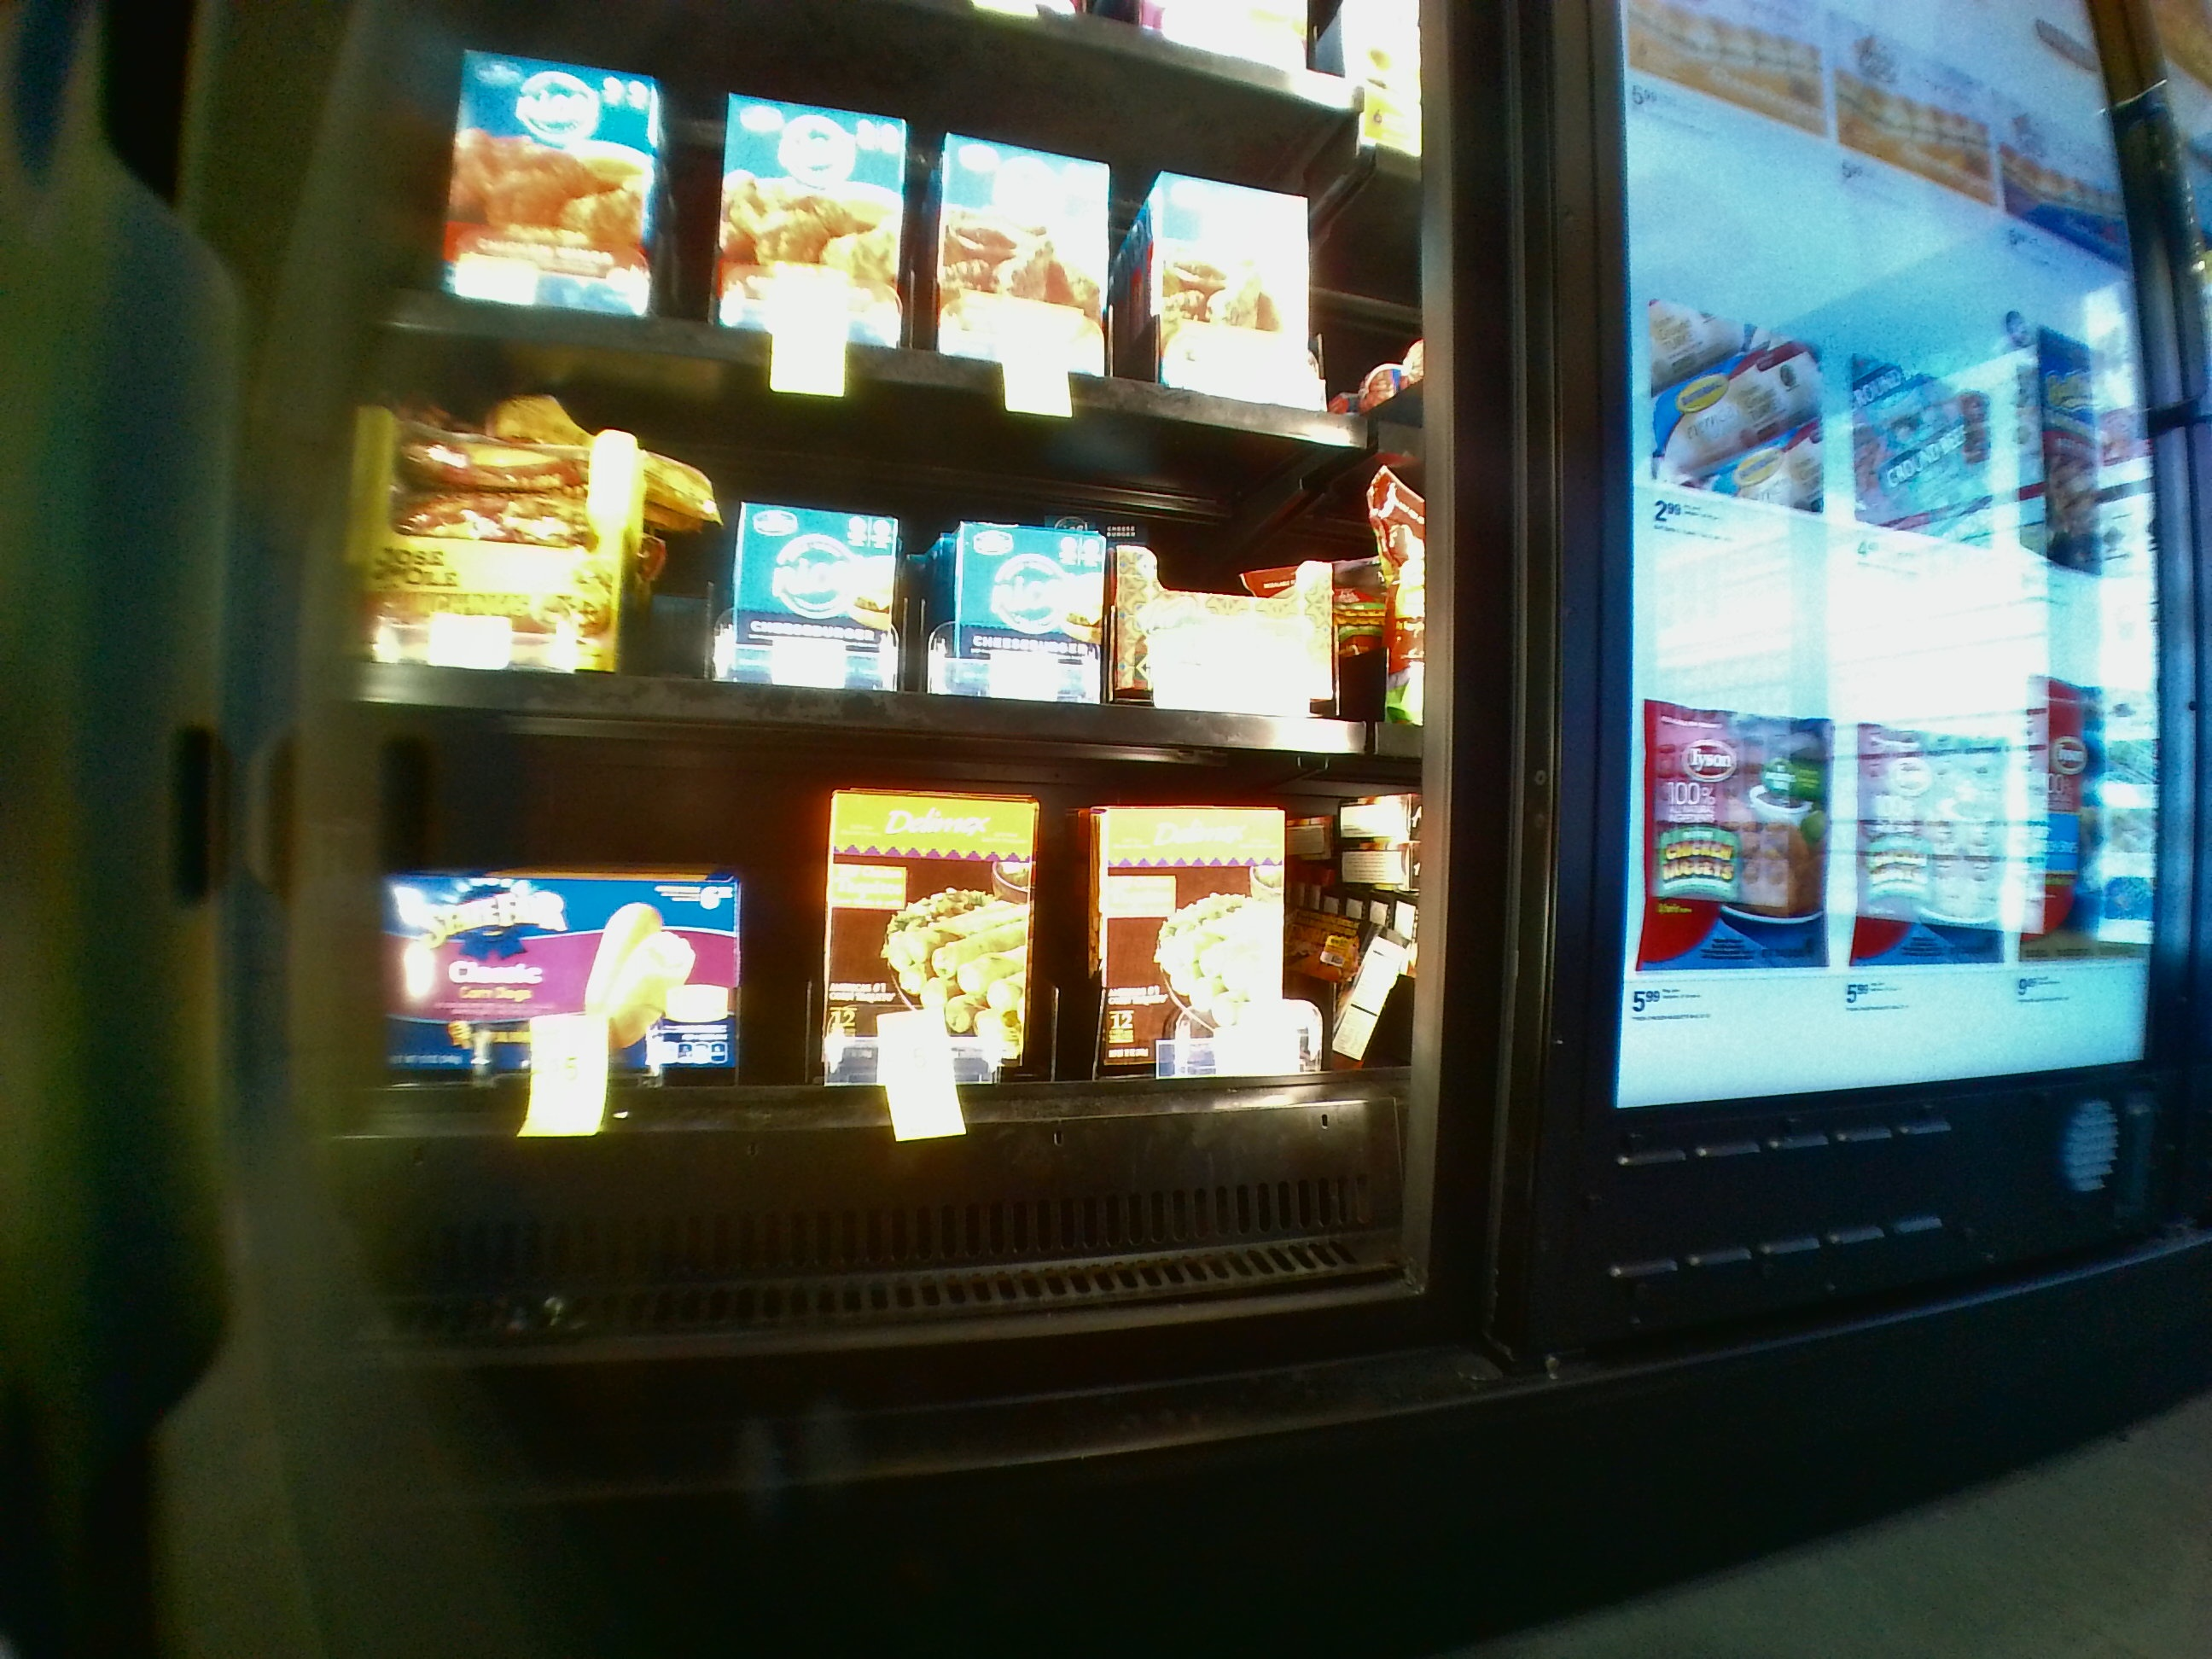shelf: (307, 706, 1411, 1291)
